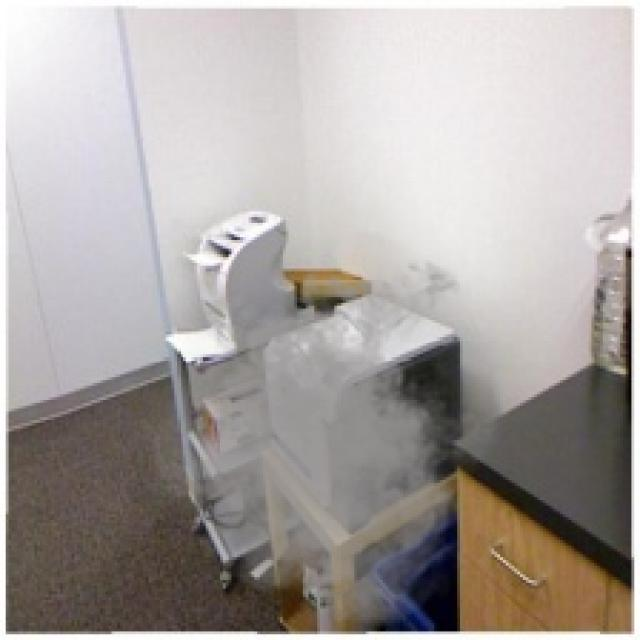Smoke: (134, 248, 517, 632)
